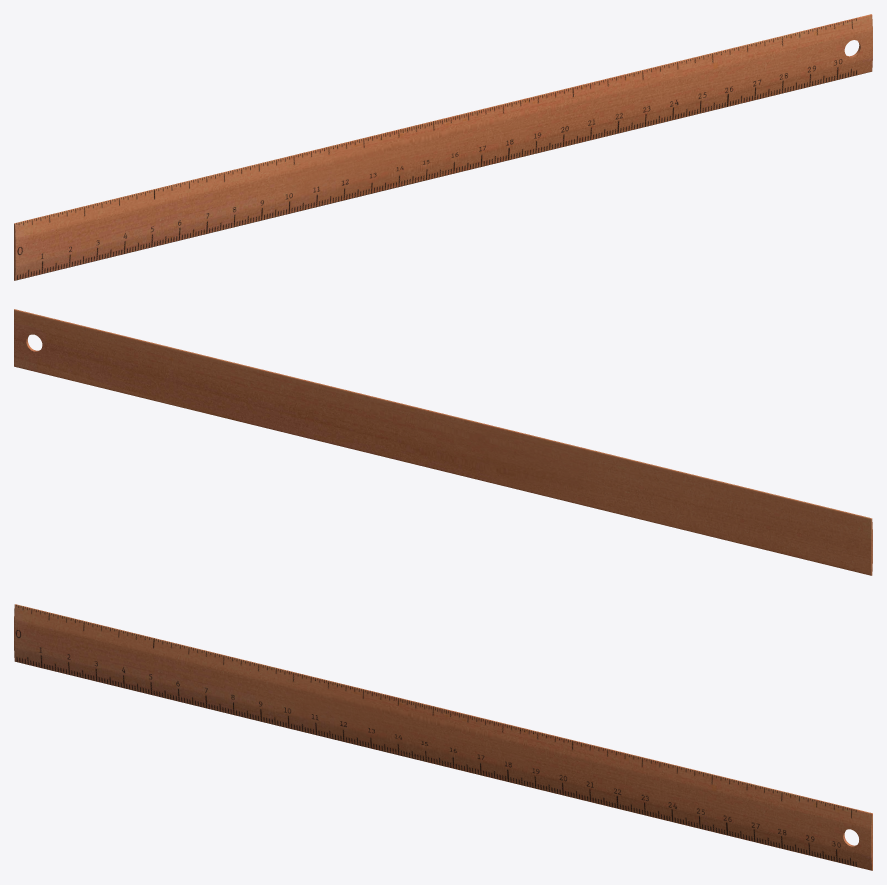
The model's file is ruler.gltf.
3 renders of one model, top to bottom at view 1: azimuth 30°, elevation 25°; view 2: azimuth 150°, elevation 25°; view 3: azimuth 330°, elevation 25°, orthographic.
Visible parts, largest first — view 1: 10310_ruler_v1_iterations-2; view 2: 10310_ruler_v1_iterations-2; view 3: 10310_ruler_v1_iterations-2.
Part boxes in pixels (left/top/right/bottom): 10310_ruler_v1_iterations-2: left=14, top=14, right=872, bottom=280; 10310_ruler_v1_iterations-2: left=14, top=309, right=872, bottom=575; 10310_ruler_v1_iterations-2: left=14, top=604, right=872, bottom=870.
Size of the model in its own units: 31.48 by 2.01 by 0.1008.
1 material, 1 textured.
